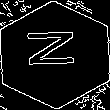N_E: (25, 34, 85, 76)
